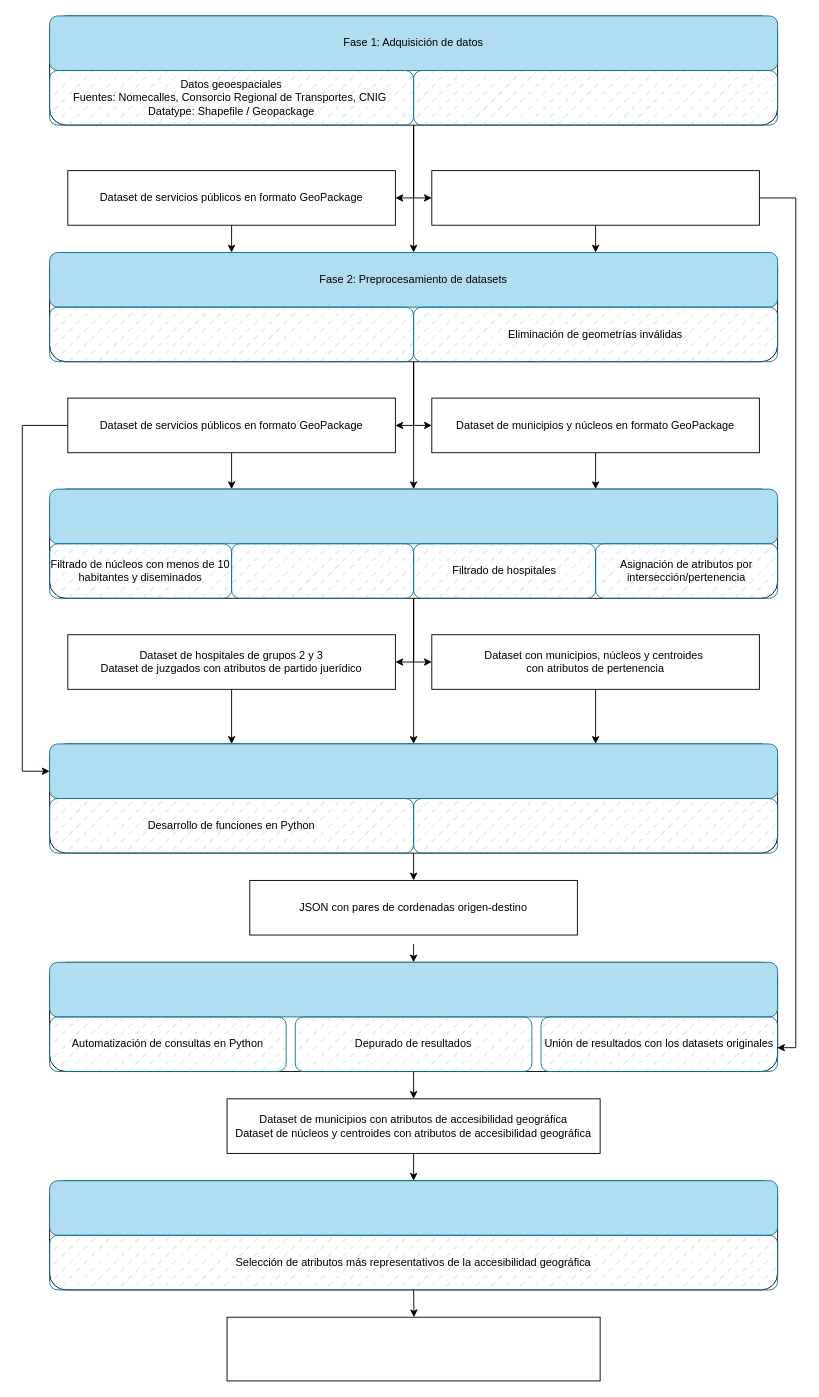
The diagram is 819 pixels wide and 1397 high, and some of its shapes have lost their labels. The shapes that lost their labels are listed below. From the top down, each one's centre as x and y in pixels, then its label:
At [595,97]: "Datos estadísticos Fuentes: INE, Ministerio de Justicia Datatype: CSV".
At [595,197]: "Dataset de municipios y centroides en formato GeoPackage".
At [231,334]: "Homogeneizacion de CRS".
At [413,516]: "Fase 3: Procesamiento de datos".
At [322,570]: "Obtención de centroides de núcleos poblacionales y corrección de posición".
At [413,771]: "Fase 4: Cálculo de vecinos más cercanos".
At [595,825]: "Lectura del proyecto QGIS".
At [413,989]: "Fase 5: Consultas a Routes API".
At [413,1207]: "Fase 6: Desarrollo de un índice de accesibilidad".
At [413,1348]: "Catálogo con los datasets finales: Municipios Núcleos Centroides".
